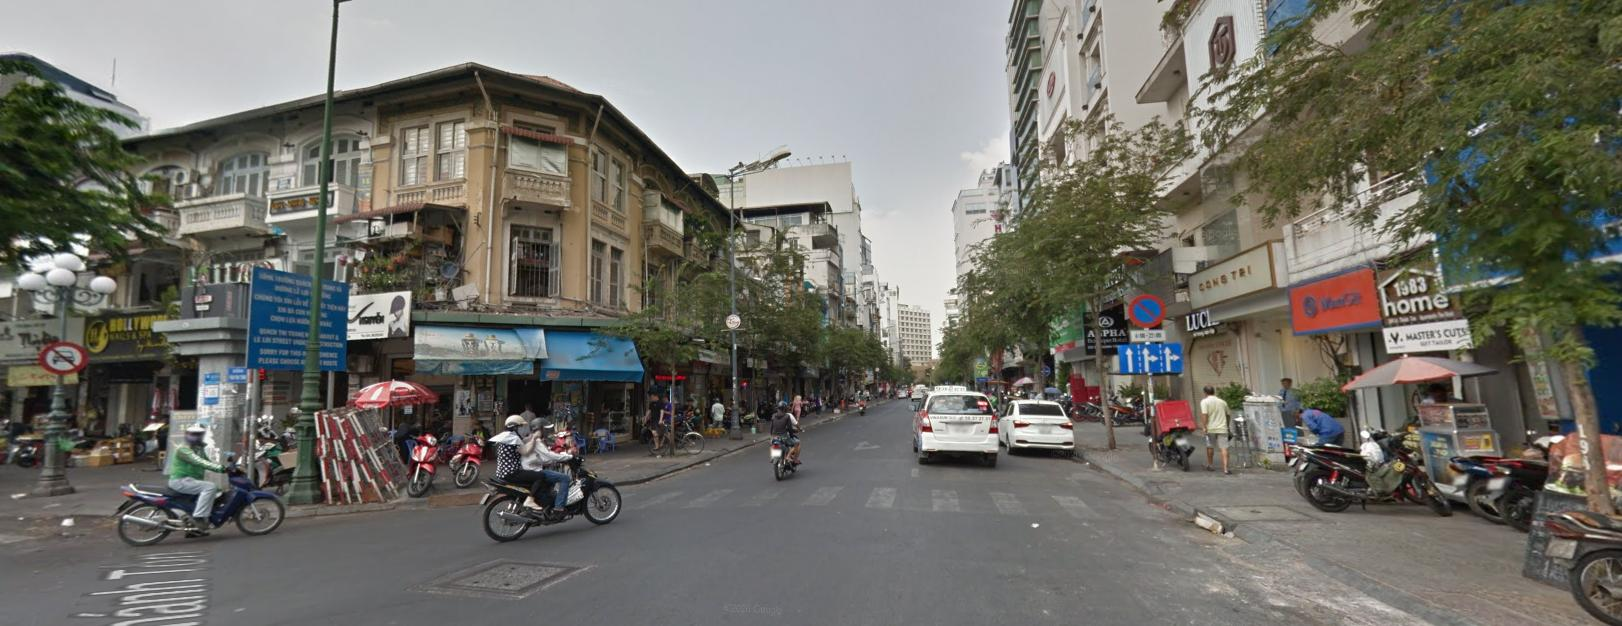Cam con lai: (36, 336, 87, 376)
Cam dung va do: (1127, 285, 1167, 331)
